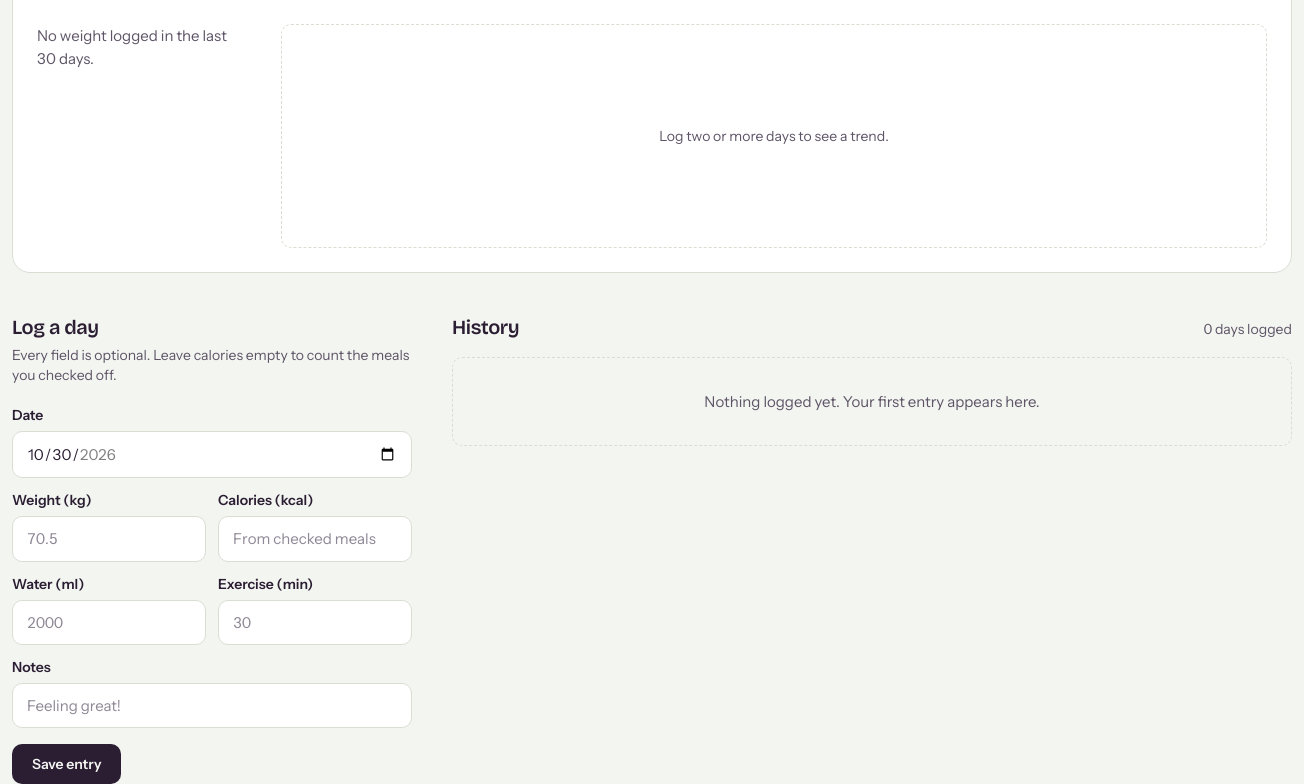
ProgressPage › BR_PRG_03_listsTheFieldsTheServerRejected
(page scrolled)
Type "500" into the number field with placeholder "2000". click: (109, 622)
box: [12,600,206,645]
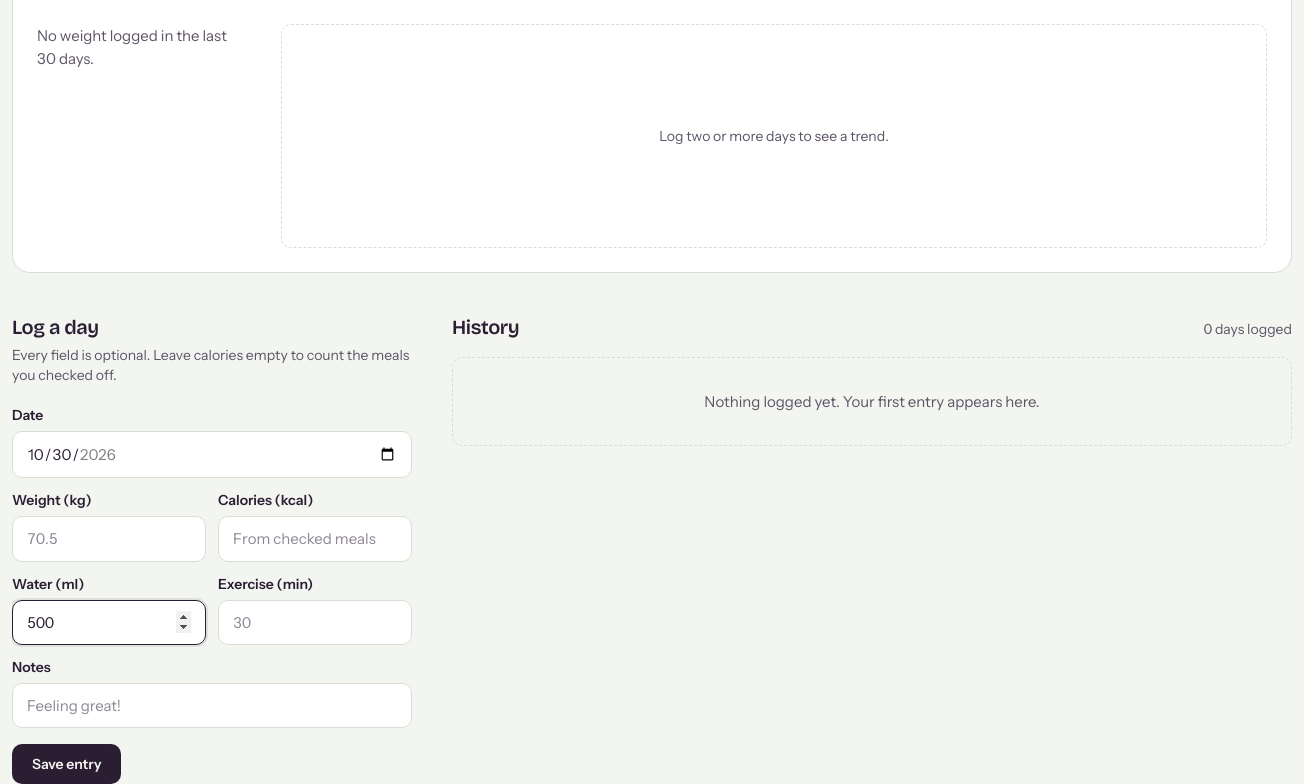
Click the button "Save entry". click: (67, 764)
box: [12,744,121,783]
(page scrolled)
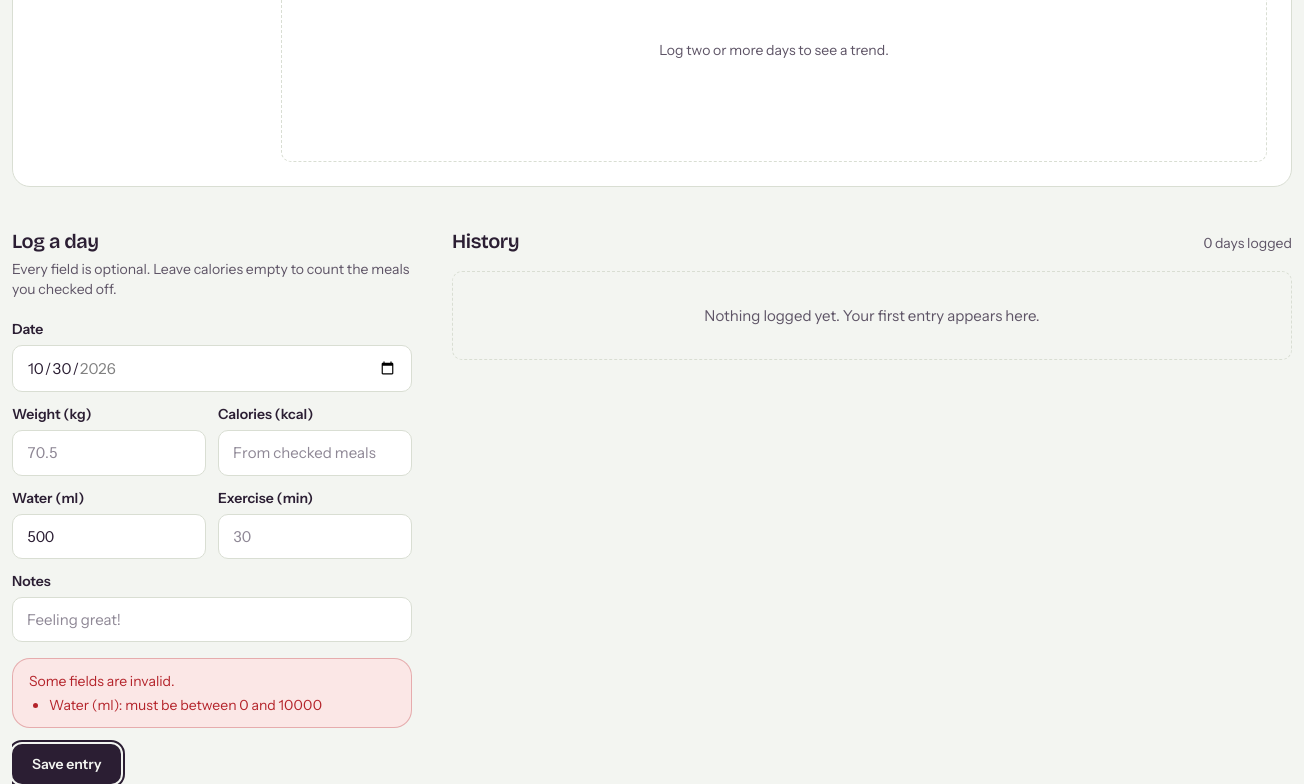
Expected: the message shows "Some fields are invalid.", [29,672,175,690]
Expected: the message shows "Water (ml): must be between 0 and 10000", [12,658,412,728]
